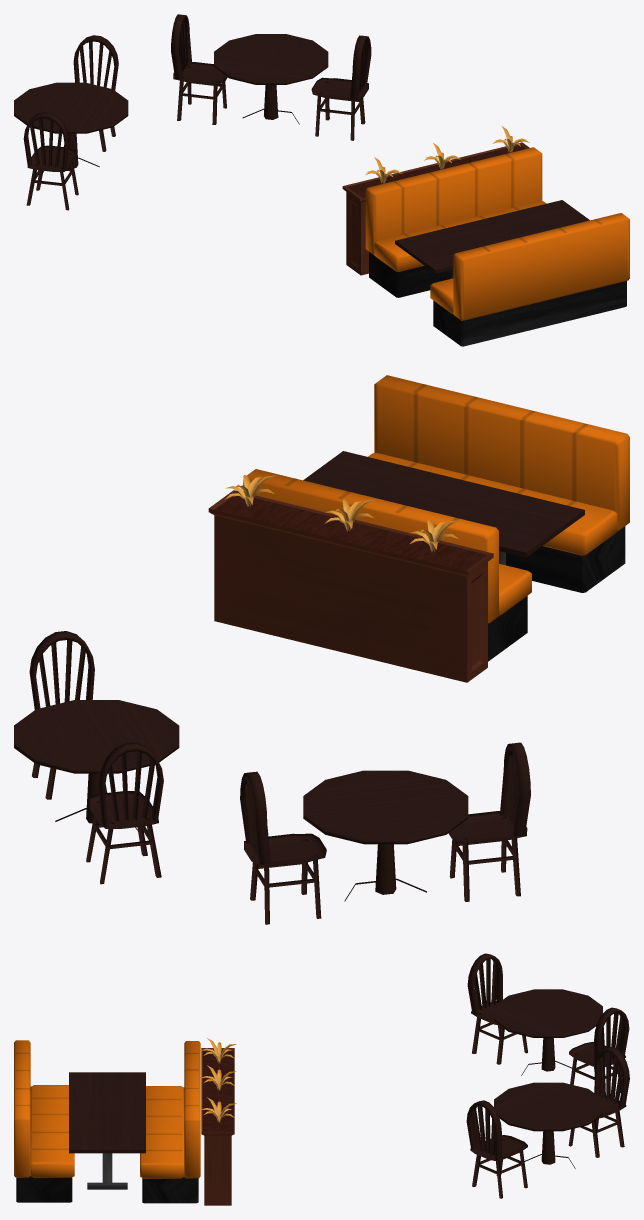
File: interiorFurniture.gltf
3 renders of one model, top to bottom at view 1: azimuth 30°, elevation 25°; view 2: azimuth 150°, elevation 25°; view 3: azimuth 270°, elevation 25°, orthographic. The views are drawn at different scales.
Visible parts, largest first — view 1: Plane.001; view 2: Plane.001; view 3: Plane.001.
Boxes of the visible parts, box(x1,y1,x2,y2) form: Plane.001: box(14, 14, 629, 346); Plane.001: box(14, 375, 629, 924); Plane.001: box(14, 953, 629, 1205).
Bounding box in the file's own units: 7.22 × 1.9 × 11.17.
